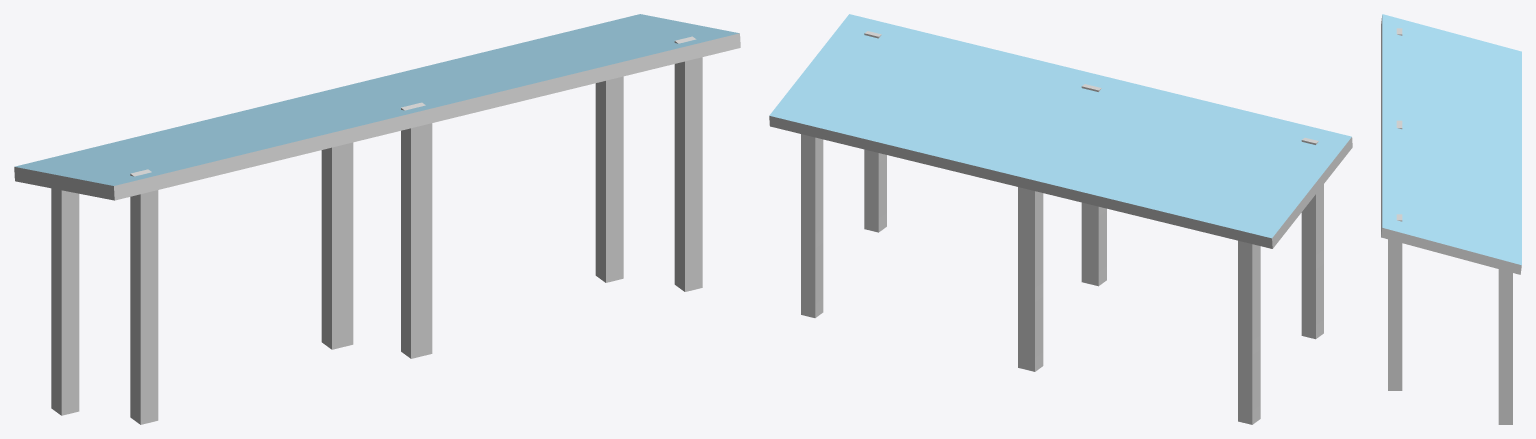
The model's file is SolarP.fbx.
The picture shows the model from 3 angles, left to right: view 1: azimuth 30°, elevation 25°; view 2: azimuth 150°, elevation 25°; view 3: azimuth 270°, elevation 25°; orthographic projection. The views are drawn at different scales.
Visible parts, largest first — view 1: Vert.003, Cube.004; view 2: Cube.004, Vert.003; view 3: Cube.004, Vert.003.
Boxes of the visible parts, x1,y1,x2,y2 form: Vert.003: [51, 36, 702, 424]; Cube.004: [14, 14, 740, 200]; Cube.004: [769, 14, 1352, 248]; Vert.003: [801, 31, 1323, 424]; Cube.004: [1381, 14, 1521, 274]; Vert.003: [1388, 28, 1512, 424].
Bounding box in the file's own units: 203 × 92.35 × 56.46.
